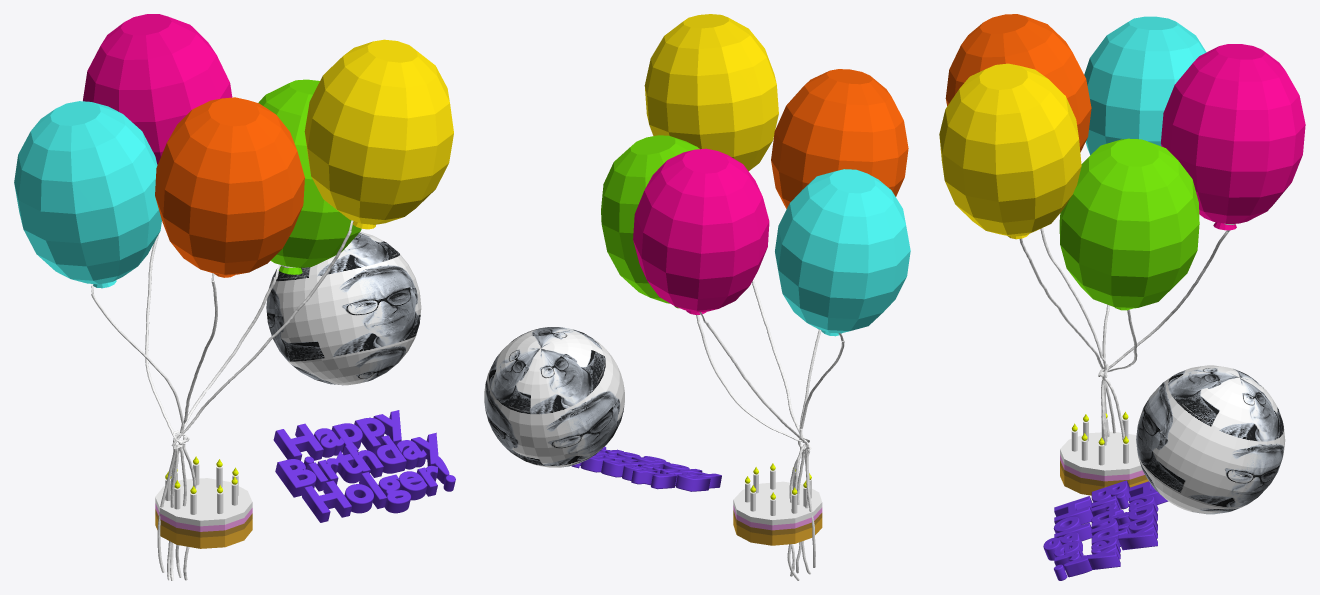
The model's file is birthday.gltf.
3 renders of one model, left to right at view 1: azimuth 30°, elevation 25°; view 2: azimuth 150°, elevation 25°; view 3: azimuth 270°, elevation 25°, orthographic. The views are drawn at different scales.
Visible parts, largest first — view 1: group96097516, Sphere, Text, model; view 2: group96097516, Sphere, model, Text; view 3: group96097516, Sphere, Text, model.
Boxes of the visible parts, bbox=[...] form: group96097516: bbox=[14, 14, 453, 580]; Sphere: bbox=[266, 232, 421, 385]; Text: bbox=[273, 410, 455, 522]; model: bbox=[155, 456, 252, 548]; group96097516: bbox=[601, 14, 910, 580]; Sphere: bbox=[484, 327, 624, 467]; model: bbox=[733, 463, 822, 545]; Text: bbox=[571, 446, 721, 491]; group96097516: bbox=[939, 14, 1305, 509]; Sphere: bbox=[1136, 365, 1285, 514]; Text: bbox=[1043, 480, 1168, 580]; model: bbox=[1060, 411, 1148, 495].
Size of the model in its own units: 9.31 by 11.46 by 7.36.
13 materials, 1 textured.
